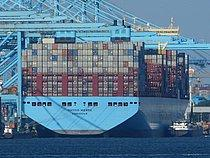Ship: (23, 37, 196, 139)
